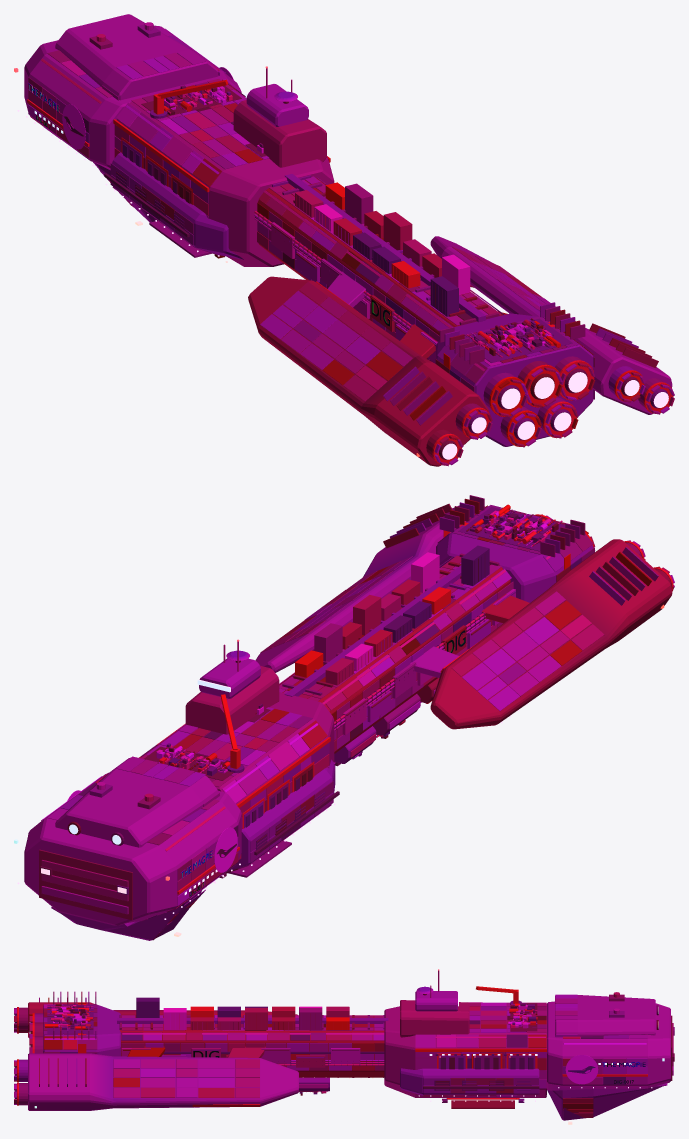
The model's file is ekster_exterior.glb.
3 renders of one model, top to bottom at view 1: azimuth 30°, elevation 25°; view 2: azimuth 150°, elevation 25°; view 3: azimuth 270°, elevation 25°, orthographic. The views are drawn at different scales.
Visible parts, largest first — view 1: Detail, Arm-1, Brow, Mid, Prow, Arm1, EngineBlock, Bridge, MidLower, Spine, BridgeTop, Pylon-124.0 (+2 smaller); view 2: Detail, Arm-1, Prow, Brow, Arm1, EngineBlock, Bridge, Mid, MidLower, Spine, Jaw, BridgeTop (+3 smaller); view 3: Detail, Arm1, Prow, Brow, Mid, Spine, MidLower, Bridge, Jaw, EngineBlock, BridgeTop, EmblemBack1 (+4 smaller).
Part boxes in pixels (x1=…): Detail: x1=14, y1=22, x2=674, y2=466; Arm-1: x1=248, y1=276, x2=489, y2=466; Brow: x1=55, y1=14, x2=218, y2=100; Mid: x1=116, y1=80, x2=334, y2=266; Prow: x1=24, y1=25, x2=241, y2=170; Arm1: x1=430, y1=236, x2=672, y2=414; EngineBlock: x1=436, y1=313, x2=593, y2=446; Bridge: x1=233, y1=100, x2=326, y2=167; MidLower: x1=112, y1=152, x2=243, y2=259; Spine: x1=257, y1=177, x2=501, y2=360; BridgeTop: x1=246, y1=84, x2=308, y2=126; Pylon-124.0: x1=327, y1=271, x2=365, y2=307; Detail: x1=14, y1=495, x2=674, y2=940; Arm-1: x1=430, y1=539, x2=672, y2=729; Prow: x1=24, y1=772, x2=241, y2=925; Brow: x1=55, y1=757, x2=218, y2=847; Arm1: x1=255, y1=505, x2=479, y2=672; EngineBlock: x1=436, y1=506, x2=593, y2=602; Bridge: x1=185, y1=665, x2=279, y2=734; Mid: x1=140, y1=692, x2=334, y2=860; MidLower: x1=227, y1=759, x2=335, y2=871; Spine: x1=279, y1=565, x2=510, y2=753; Jaw: x1=51, y1=890, x2=201, y2=940; BridgeTop: x1=199, y1=658, x2=260, y2=698; Detail: x1=14, y1=969, x2=674, y2=1124; Arm1: x1=28, y1=1053, x2=298, y2=1110; Prow: x1=547, y1=1001, x2=670, y2=1090; Brow: x1=555, y1=995, x2=655, y2=1036; Mid: x1=384, y1=1003, x2=546, y2=1097; Spine: x1=120, y1=1016, x2=384, y2=1077; MidLower: x1=400, y1=1068, x2=539, y2=1095; Bridge: x1=400, y1=1000, x2=469, y2=1037; Jaw: x1=547, y1=1083, x2=667, y2=1120; EngineBlock: x1=43, y1=1004, x2=120, y2=1056; BridgeTop: x1=415, y1=991, x2=457, y2=1011; EmblemBack1: x1=565, y1=1055, x2=598, y2=1084.
Bounding box in the file's own units: 53.21 × 43.71 × 171.
